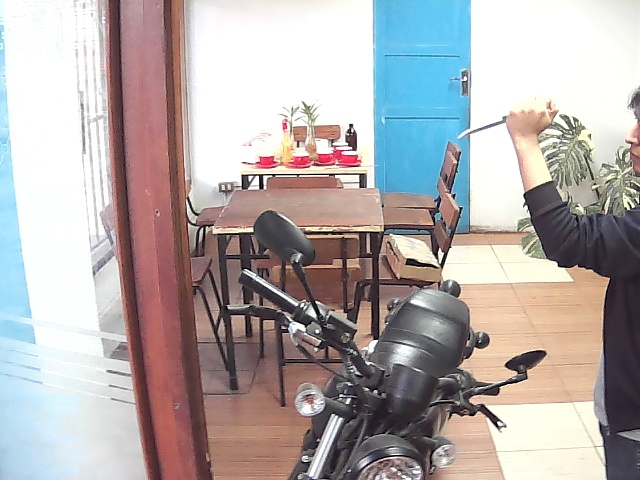cuchillo: (450, 93, 567, 147)
